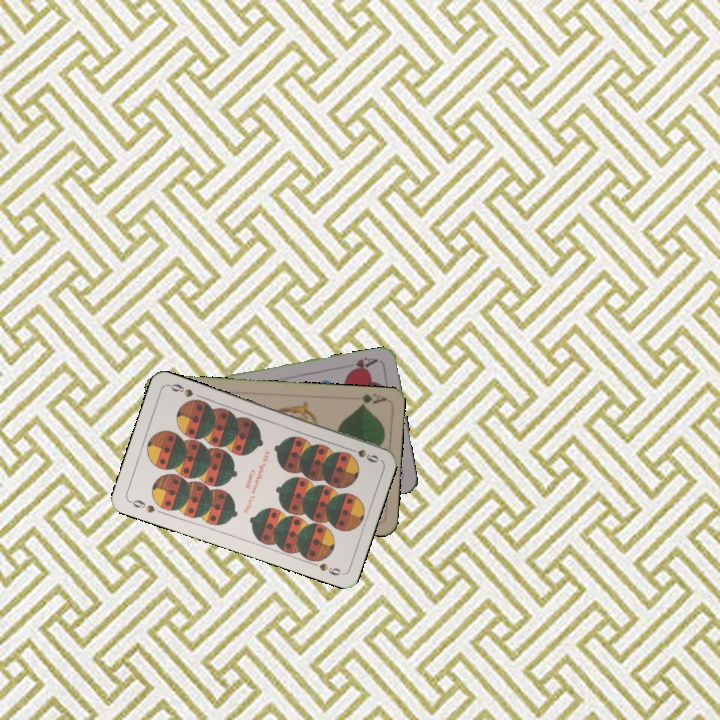GA: (355, 390, 389, 409)
HA: (341, 353, 380, 375)
S9: (342, 443, 382, 465), (125, 496, 157, 516)
